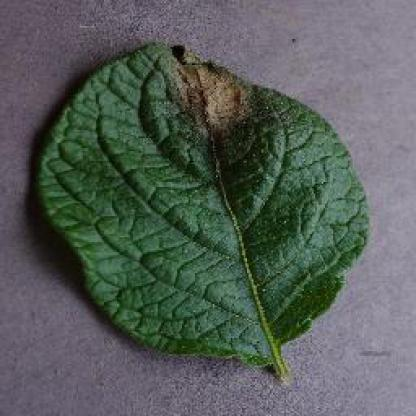bad leaf: (49, 12, 387, 401)
